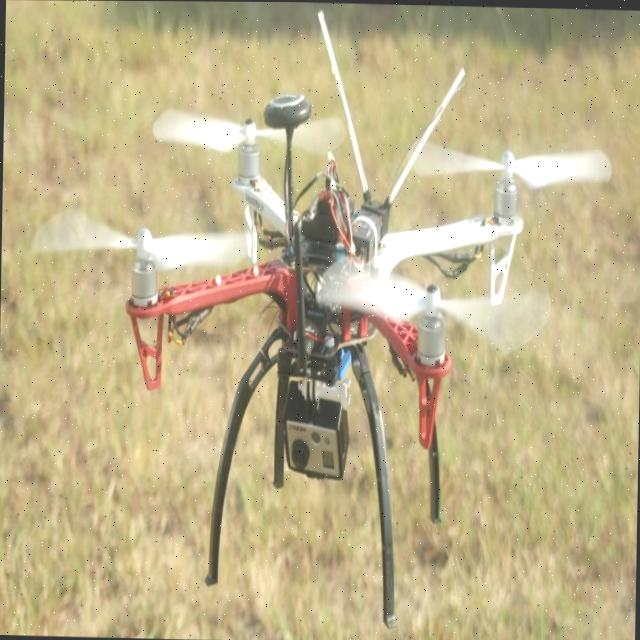drone: (49, 56, 626, 529)
